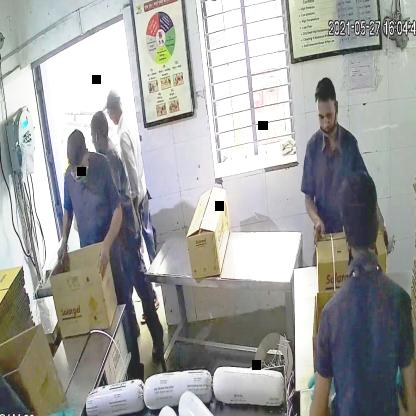no_goggles: (315, 103, 338, 129), (67, 158, 91, 182)
